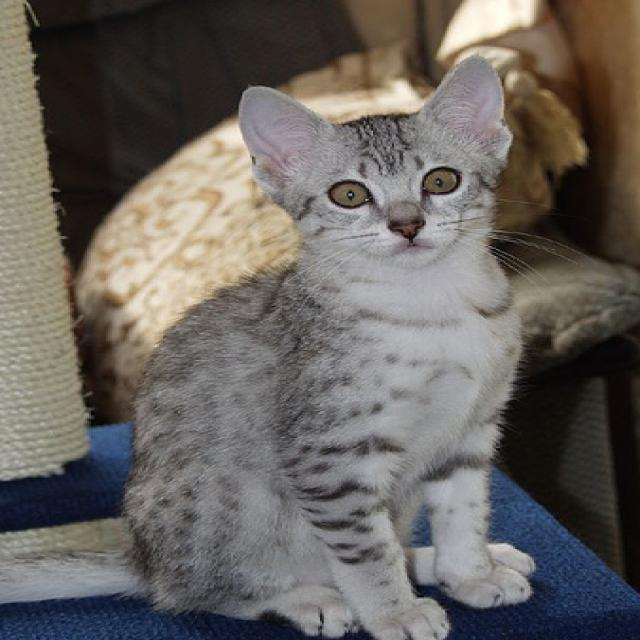Egyptian Mau: (0, 52, 539, 640)
